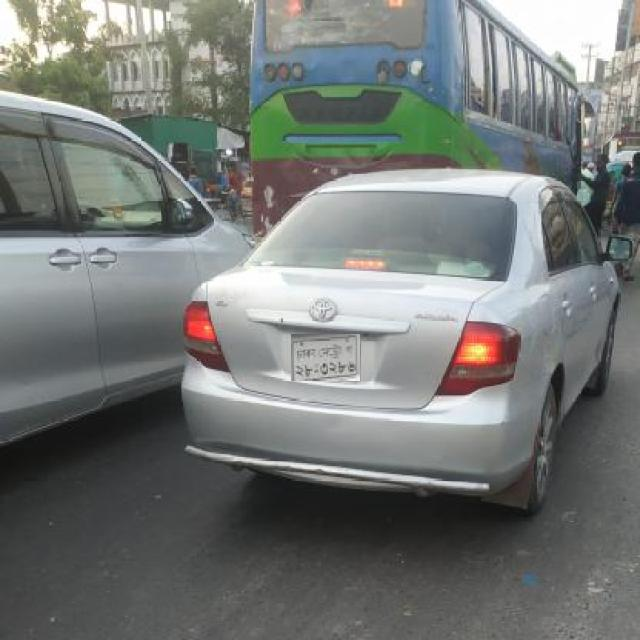numberplate: (291, 334, 360, 381)
